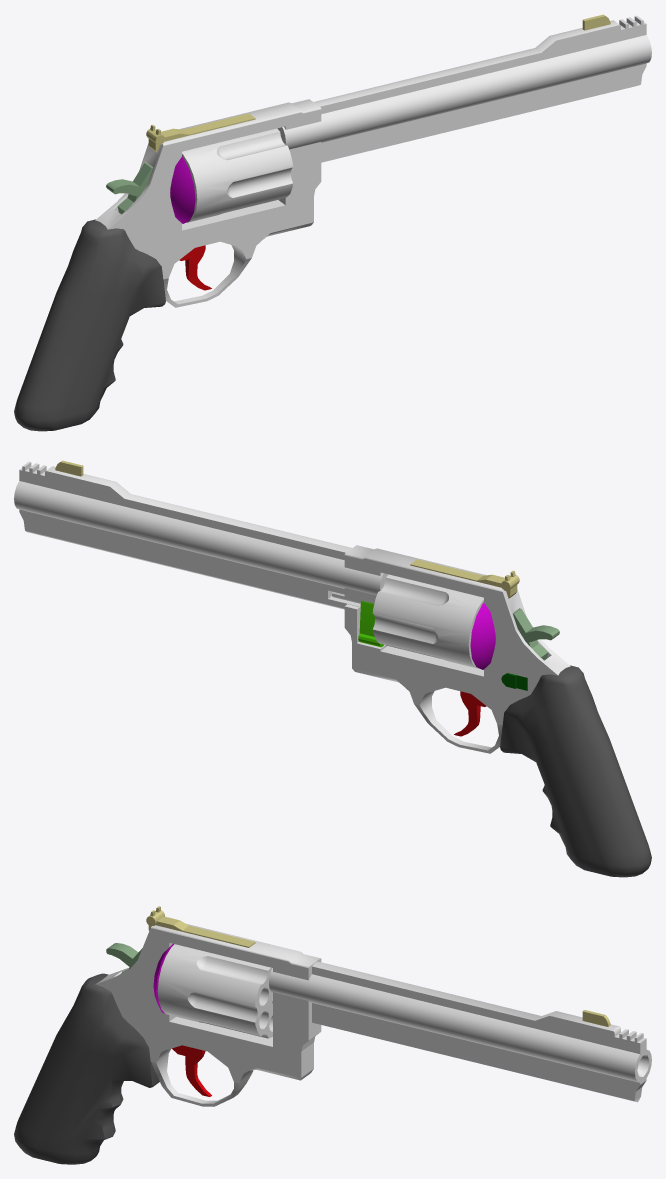
Rendered from revolver v2.fbx.
The picture shows the model from 3 angles, top to bottom: view 1: azimuth 30°, elevation 25°; view 2: azimuth 150°, elevation 25°; view 3: azimuth 330°, elevation 25°; orthographic projection.
Visible parts, largest first — view 1: barrel, grip, body, cylinder, sight, recoil shield, hammer, trigger; view 2: barrel, grip, body, cylinder, sight, recoil shield, hammer, crane, trigger; view 3: barrel, body, grip, cylinder, sight, trigger, hammer.
Boxes of the visible parts, x1,y1,x2,y2 form: barrel: [277, 15, 651, 162]; grip: [14, 219, 165, 431]; body: [95, 99, 321, 307]; cylinder: [182, 128, 293, 222]; sight: [146, 14, 610, 152]; recoil shield: [170, 156, 195, 223]; hammer: [106, 162, 153, 214]; trigger: [179, 245, 211, 290]; barrel: [14, 461, 388, 609]; grip: [500, 665, 651, 877]; body: [344, 545, 570, 753]; cylinder: [332, 574, 483, 668]; sight: [55, 460, 519, 598]; recoil shield: [470, 602, 495, 669]; hammer: [512, 608, 559, 660]; crane: [358, 600, 383, 647]; trigger: [454, 691, 486, 736]; barrel: [269, 961, 651, 1102]; body: [95, 923, 321, 1106]; grip: [14, 973, 159, 1164]; cylinder: [157, 944, 272, 1038]; sight: [146, 906, 610, 1026]; trigger: [172, 1045, 211, 1096]; hammer: [106, 943, 142, 973].
Size of the model in its own units: 930 by 392 by 102.
